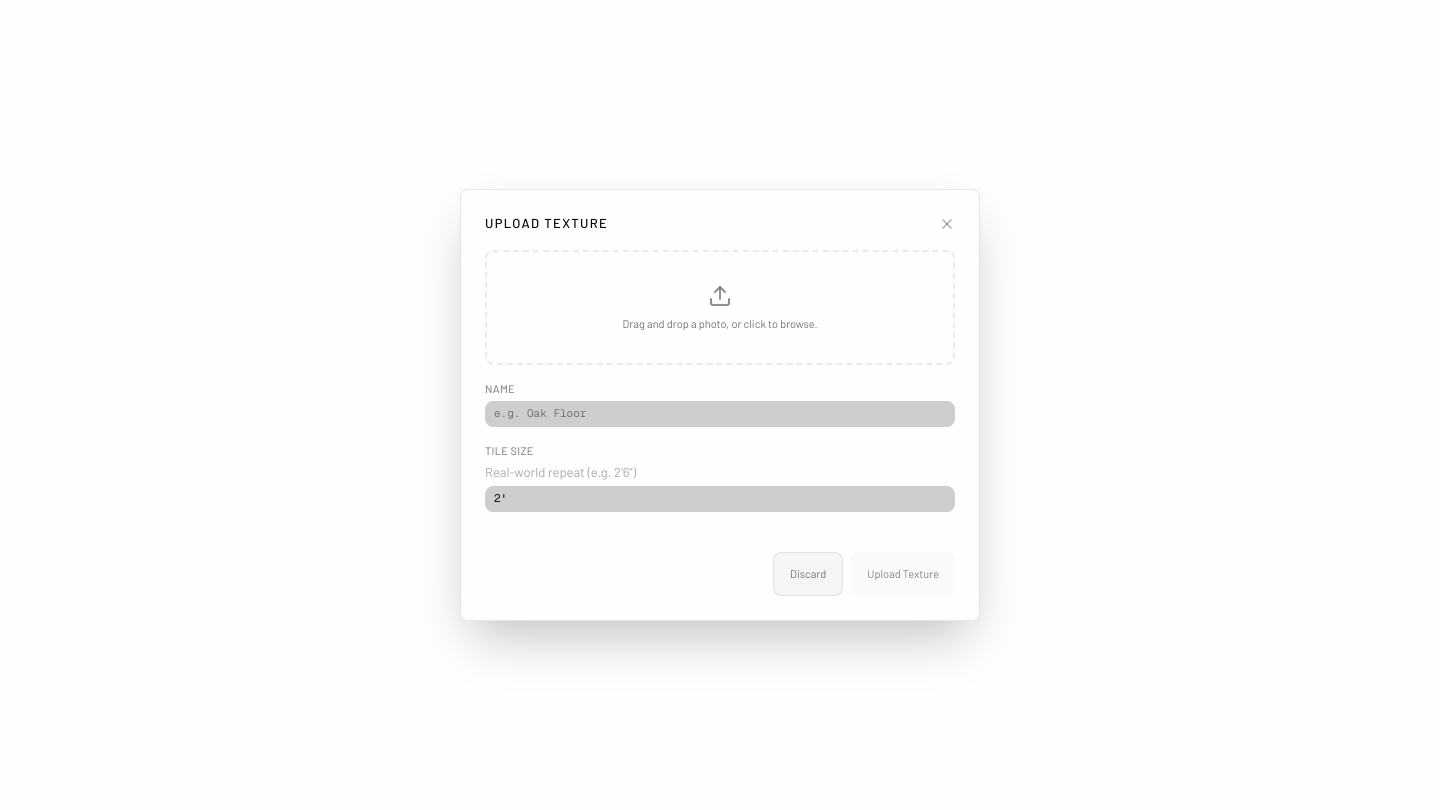
it: UploadTextureModal — create mode › invalid tile size on blur shows inline error and disables primary CTA
Type "foo" into the field labelled "TILE SIZE" at [720, 499], box [485,486,955,512]
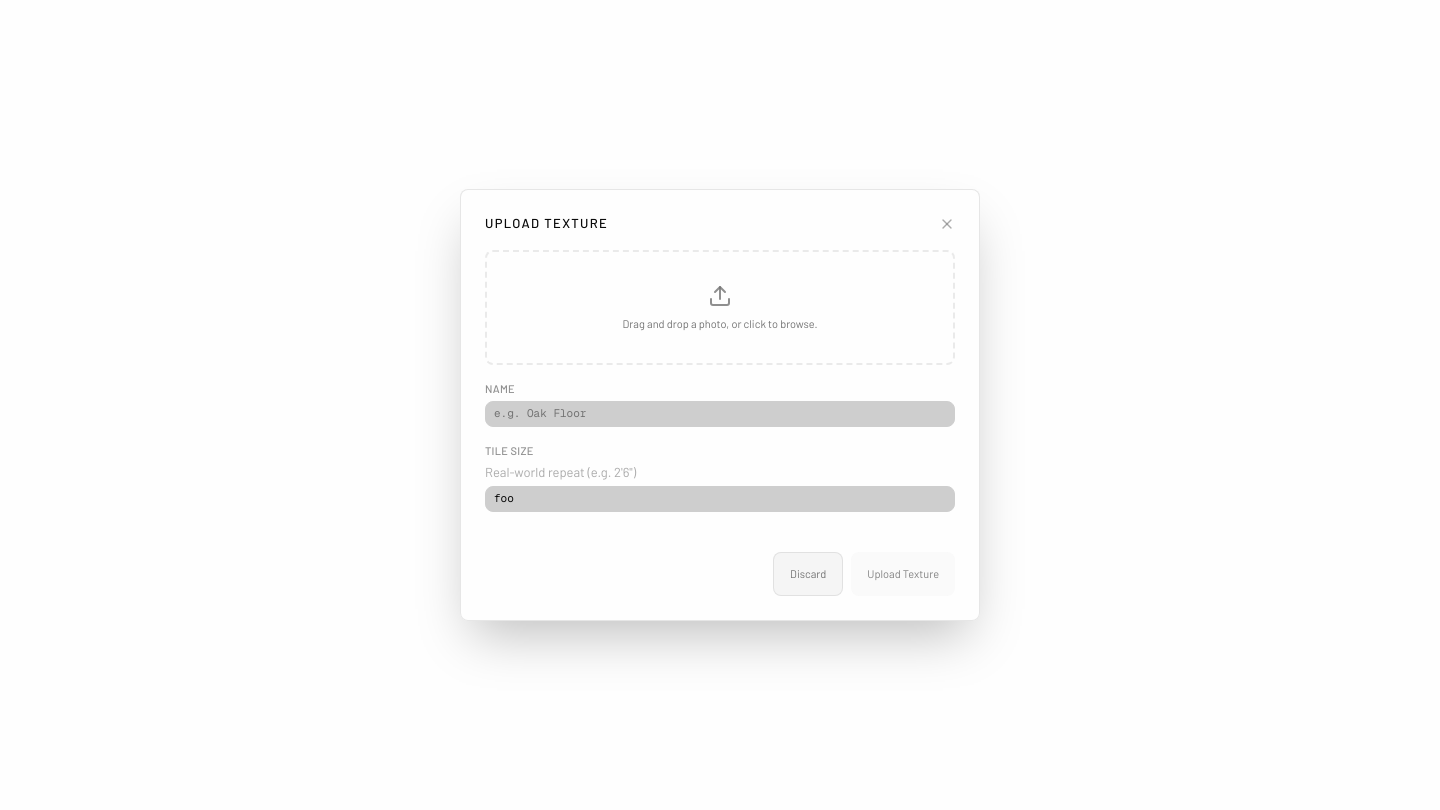
Leave the field labelled "TILE SIZE", box [485,486,955,512]
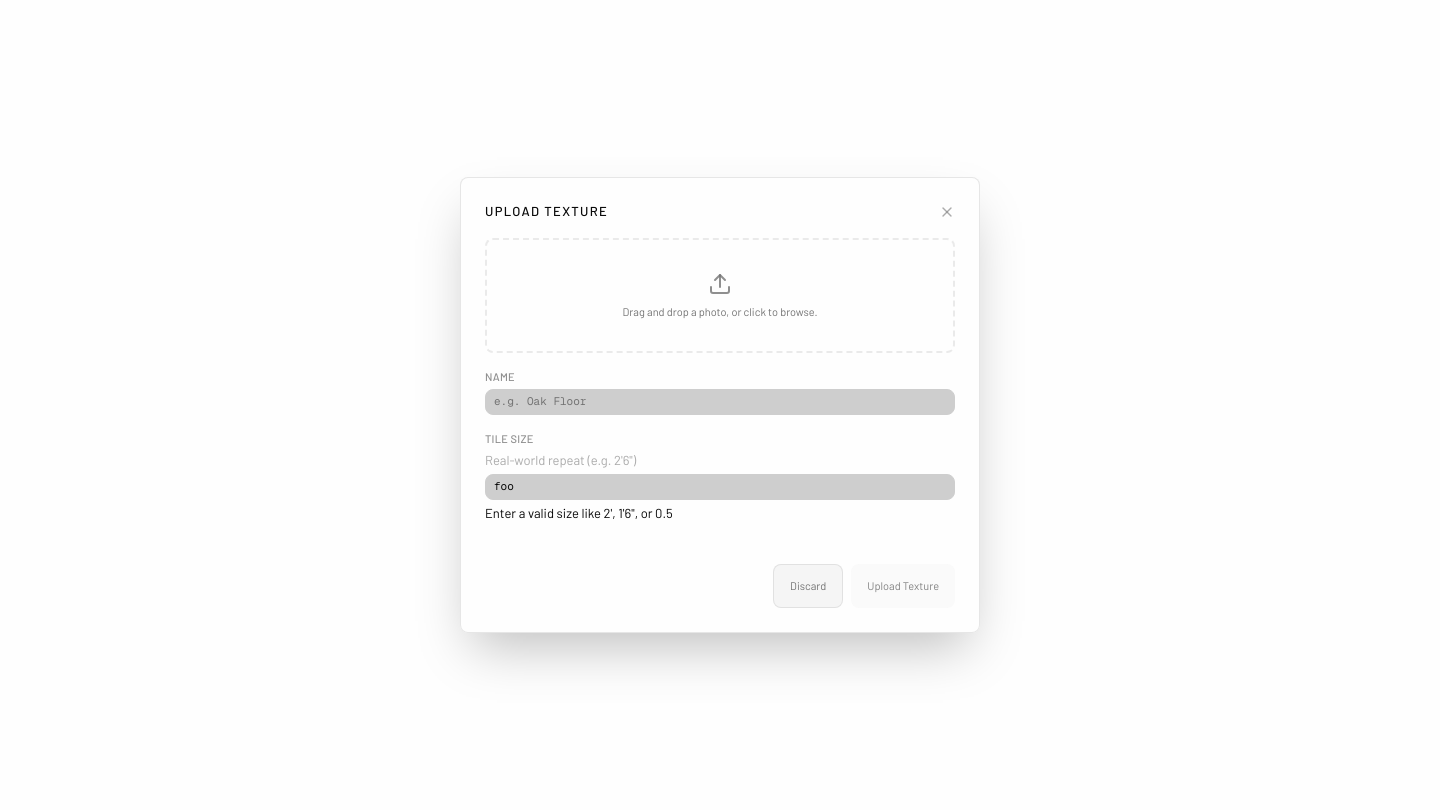
Expected: the button "Upload Texture" is disabled, [851,564,955,608]
Expected: the text "Enter a valid size like 2', 1'6\", or 0.5" is shown, [485,505,673,521]
